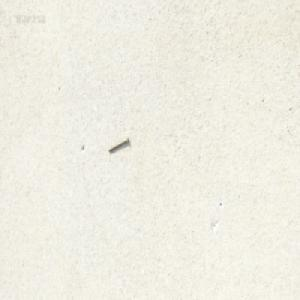Bolt: (107, 135, 129, 152)
